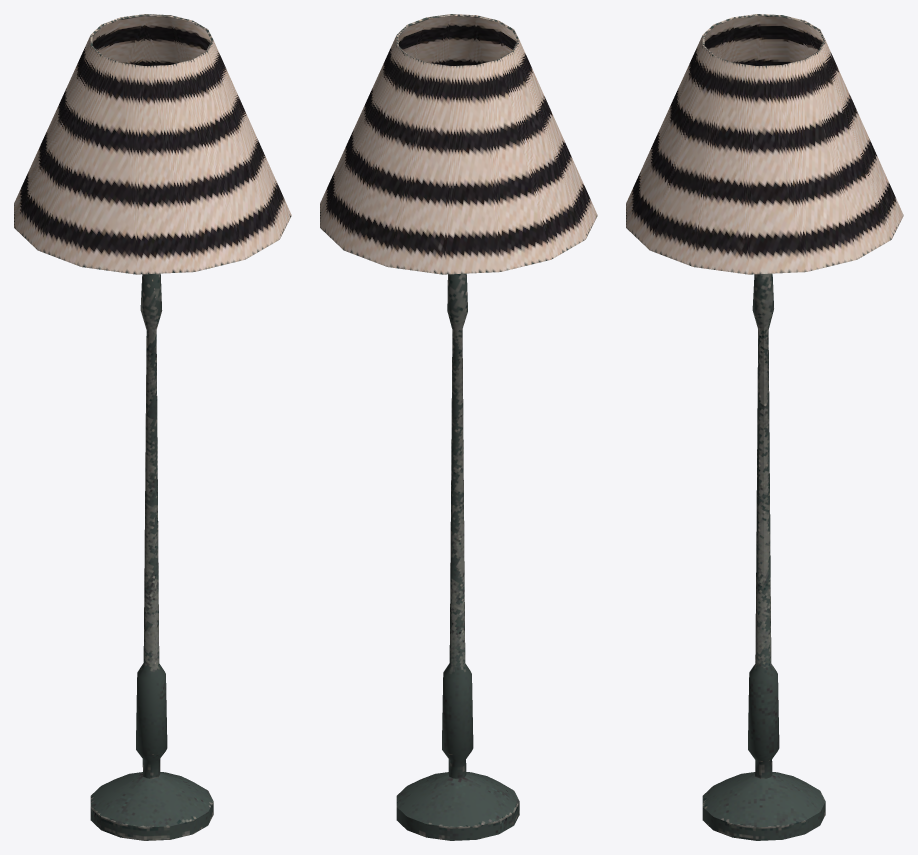
File: FloorLamp.fbx
The picture shows the model from 3 angles, left to right: view 1: azimuth 30°, elevation 25°; view 2: azimuth 150°, elevation 25°; view 3: azimuth 270°, elevation 25°; orthographic projection.
Parts seen in each view (by area): view 1: FloorLamp; view 2: FloorLamp; view 3: FloorLamp.
Boxes of the visible parts, x1,y1,x2,y2 form: FloorLamp: (14,14,291,840); FloorLamp: (320,14,597,840); FloorLamp: (626,14,903,840).
Size of the model in its own units: 40.94 by 41.17 by 126.
